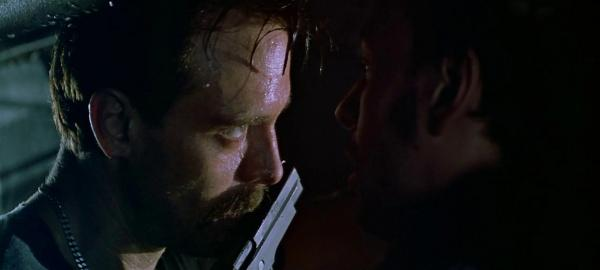Gun: (215, 161, 303, 270)
